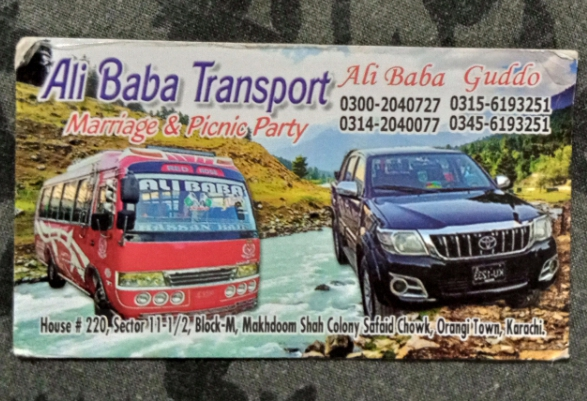alphabetical: (33, 51, 334, 114), (56, 112, 310, 145), (338, 55, 447, 92)
numerical: (446, 112, 553, 136), (335, 114, 446, 136), (448, 93, 554, 113), (336, 95, 443, 114)
